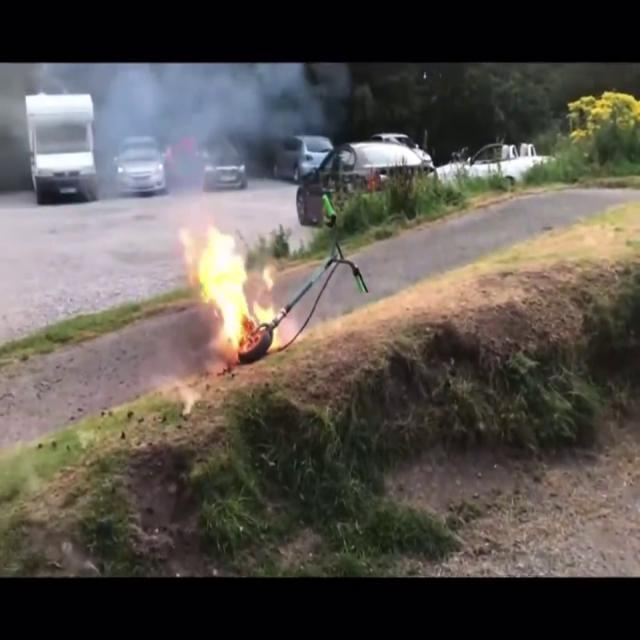Fire: (185, 224, 271, 350)
Smoke: (104, 66, 330, 208)
